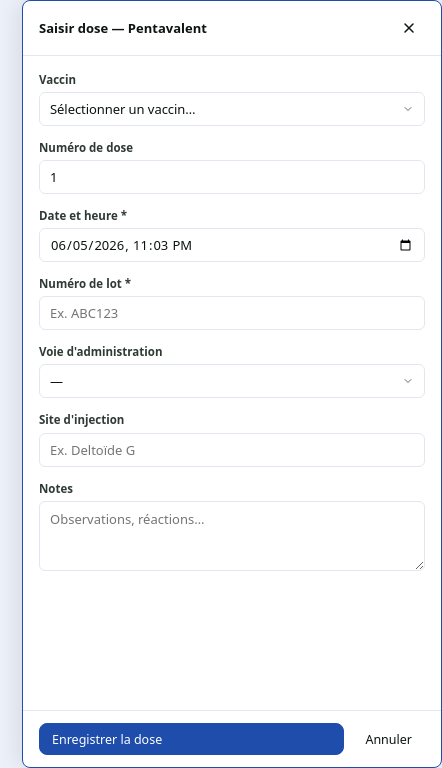
Scenario: RecordDoseDrawer (record mode) — lotNumber validation › shows validation error when lotNumber is empty on submit
The width and height of the screenshot is (442, 768).
Click the button "Enregistrer la dose" at (107, 739), box [39, 723, 344, 755]
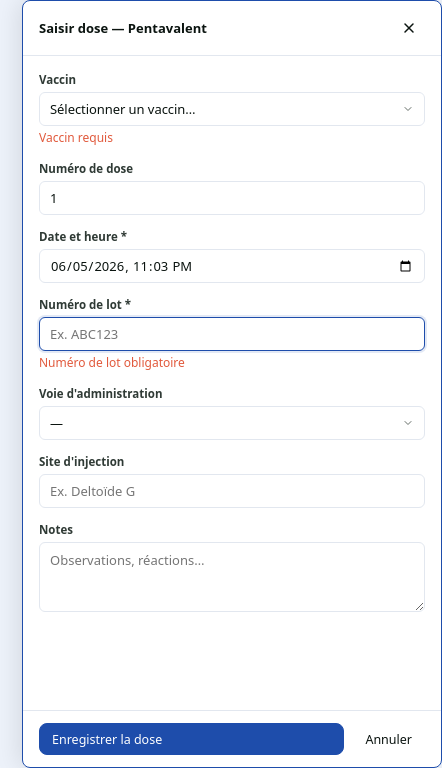
Now the text "Numéro de lot obligatoire" is shown, box [39, 354, 185, 371]
